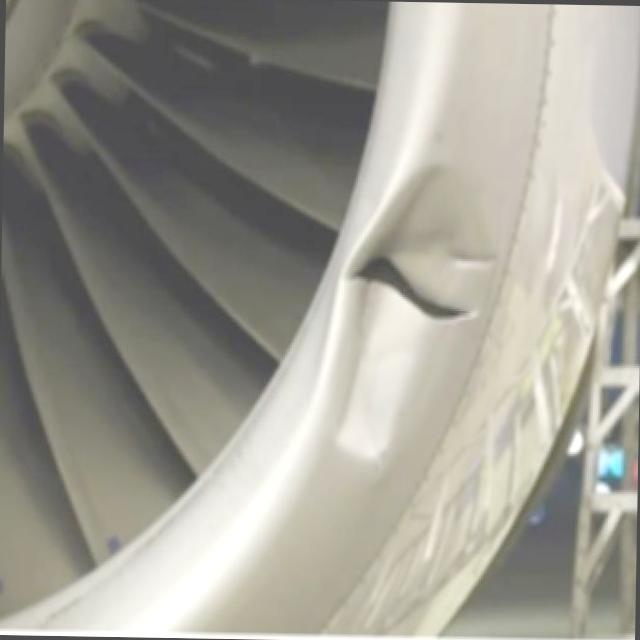crack: (350, 246, 472, 326)
